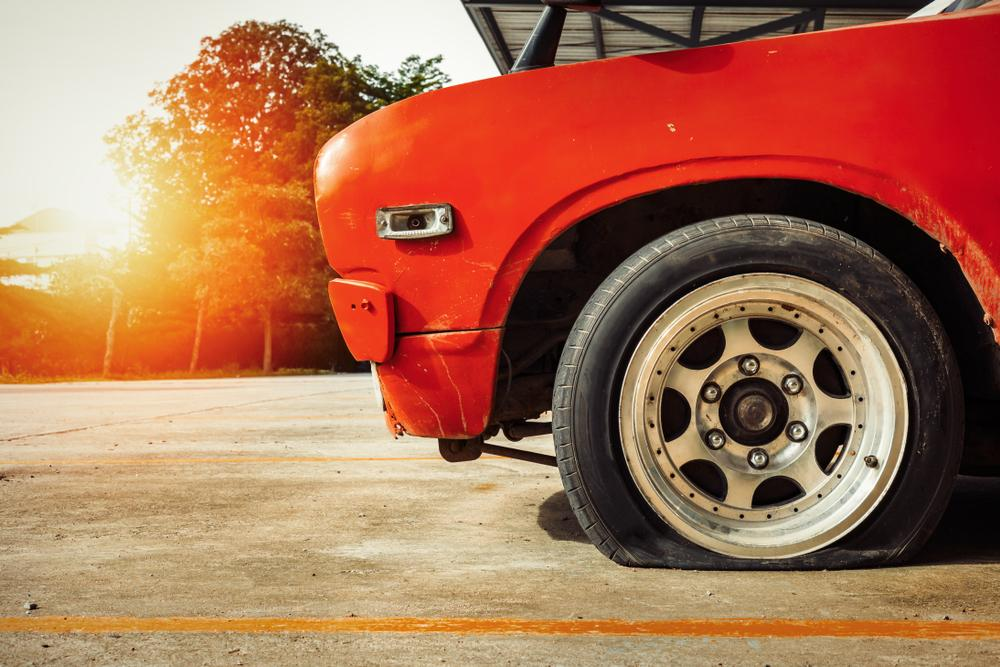tire flat: (553, 205, 962, 570)
